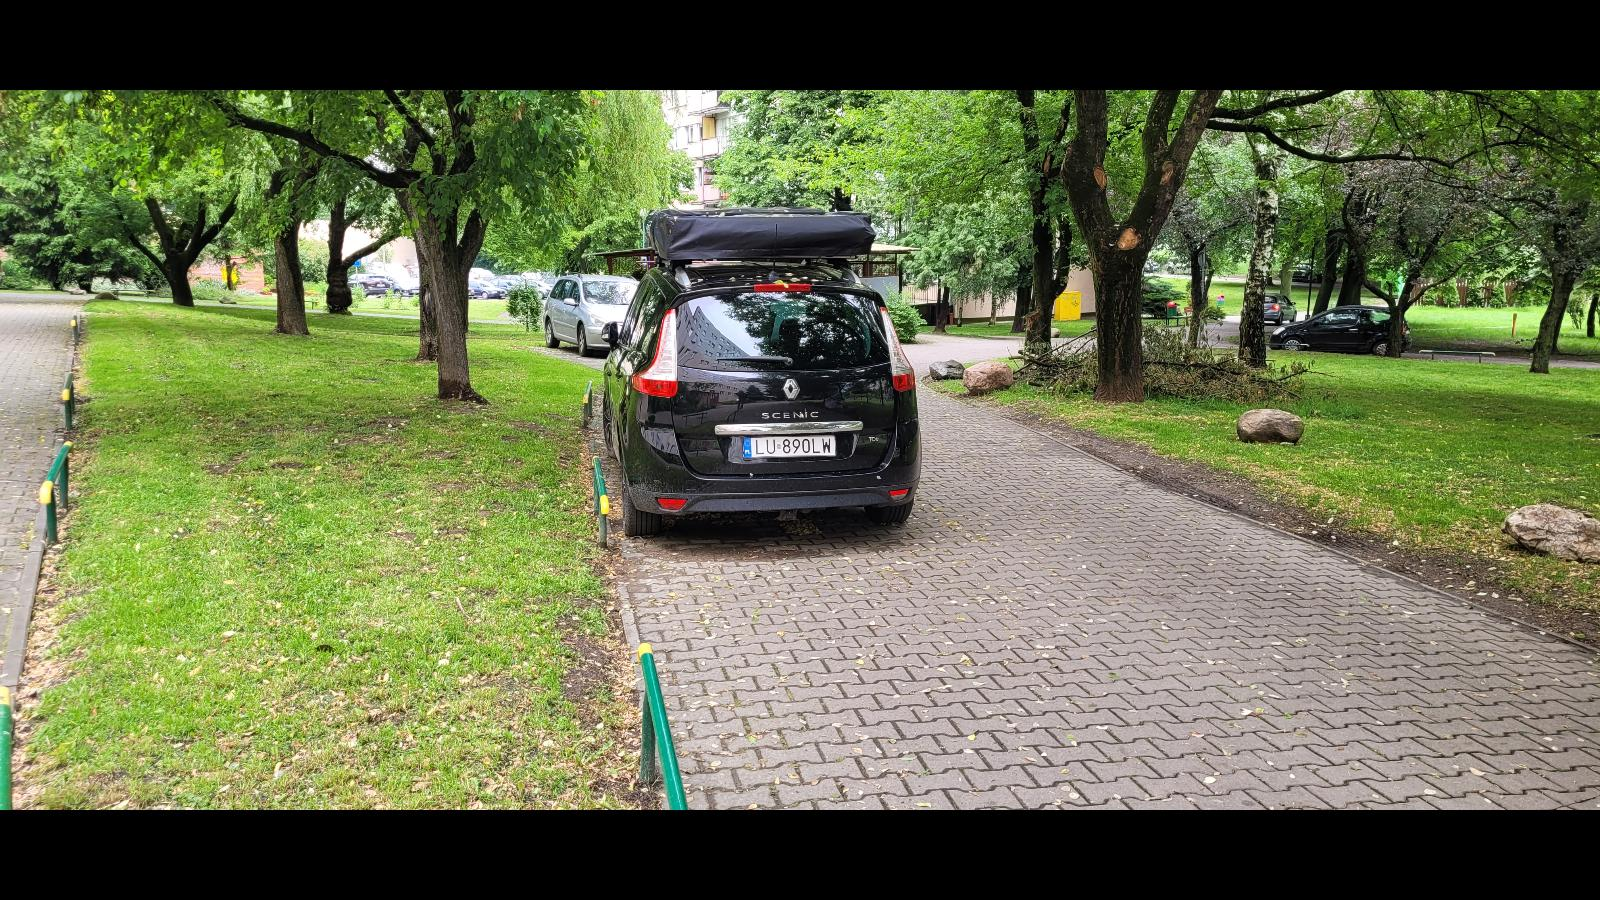plates: (741, 435, 837, 461)
